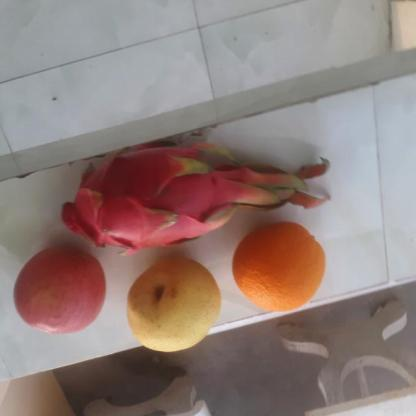apple: (11, 248, 105, 334)
orange: (228, 220, 326, 314)
pear: (123, 255, 225, 356)
pitaya: (59, 139, 241, 255)
